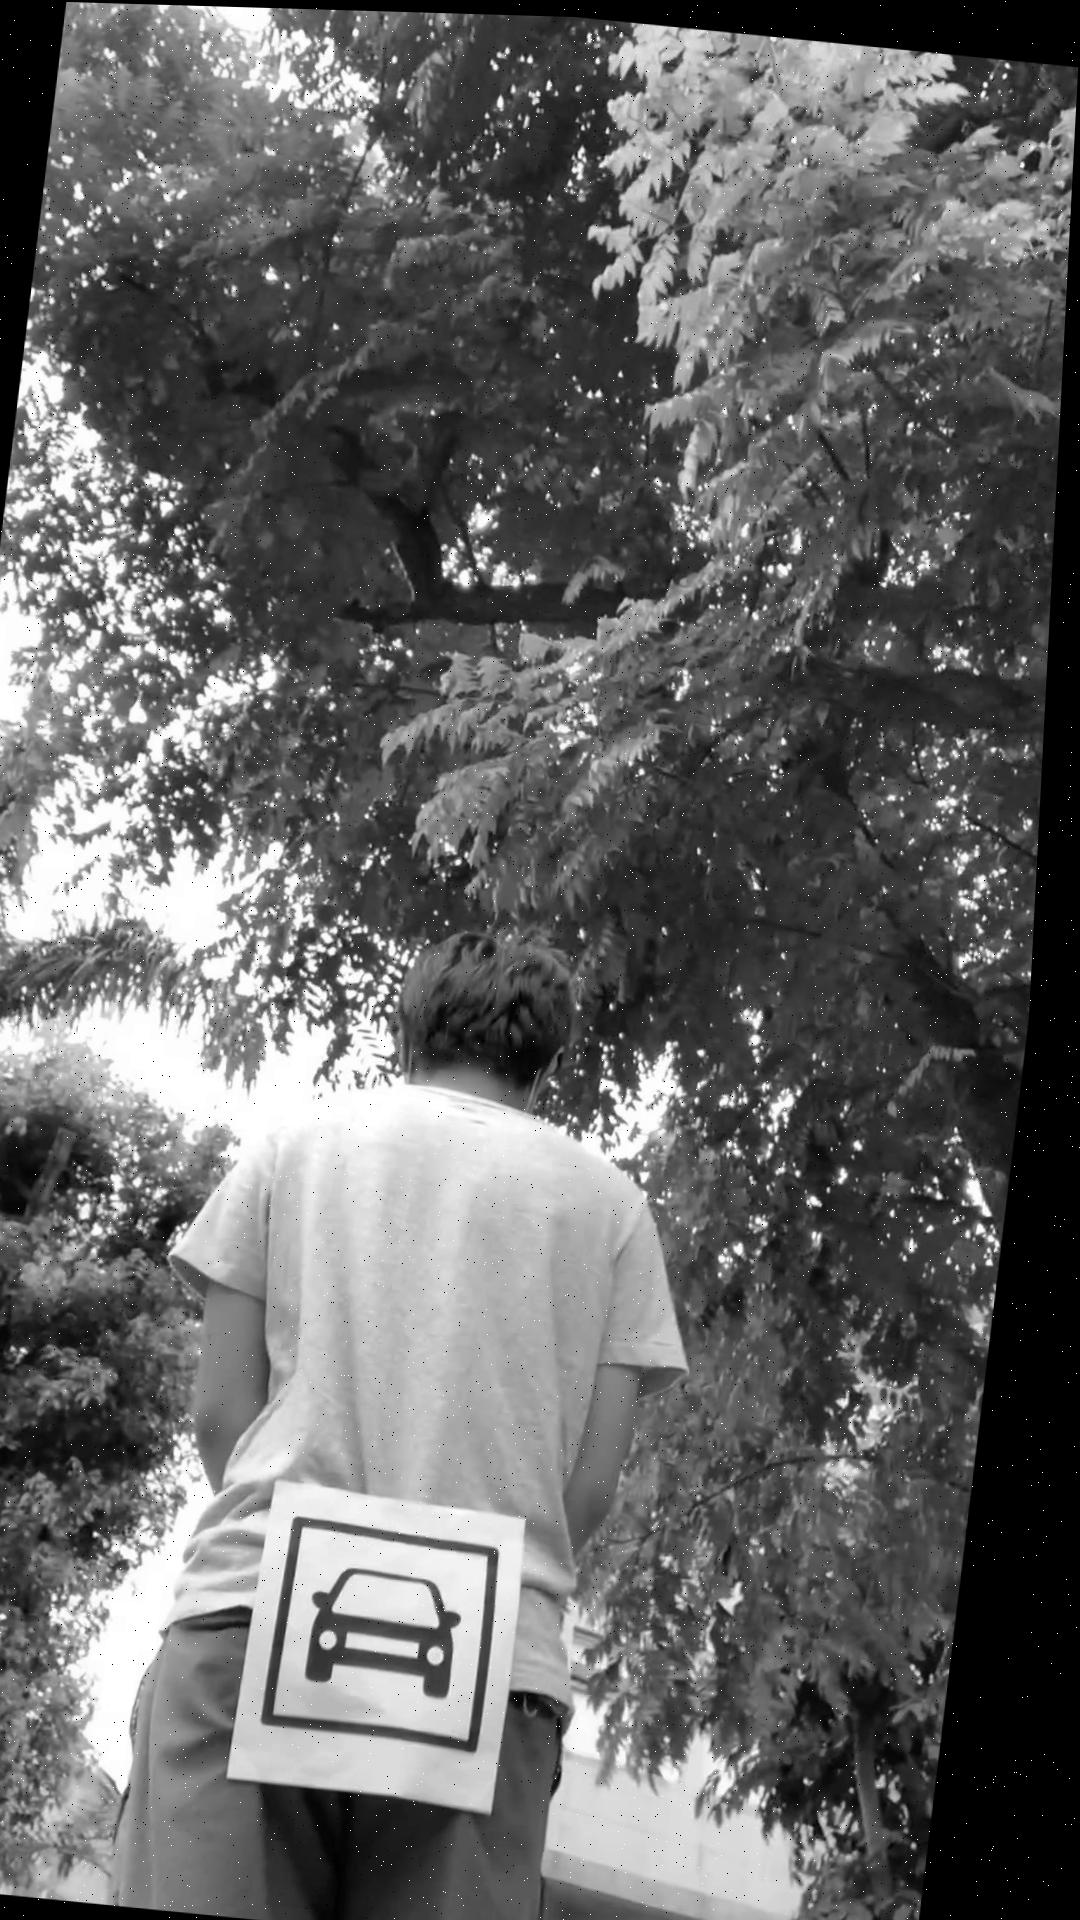car_img: (276, 1510, 522, 1751)
